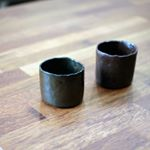cups: (34, 55, 91, 111), (92, 38, 142, 93)
